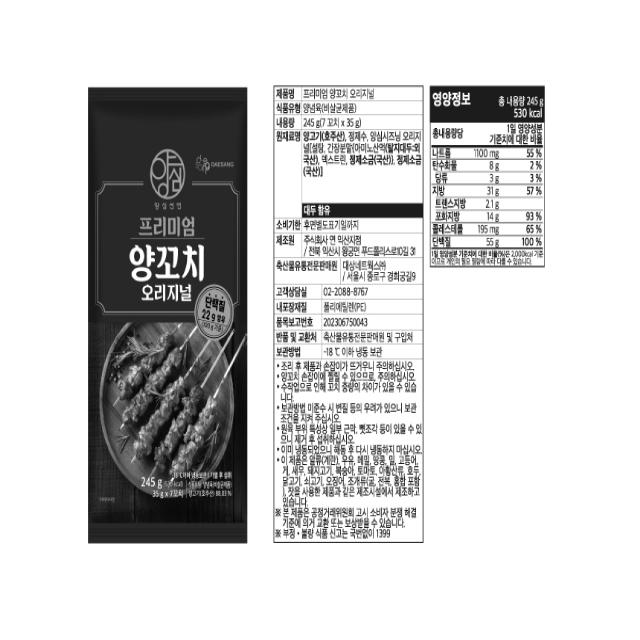Nutrition Label: (425, 80, 553, 276)
